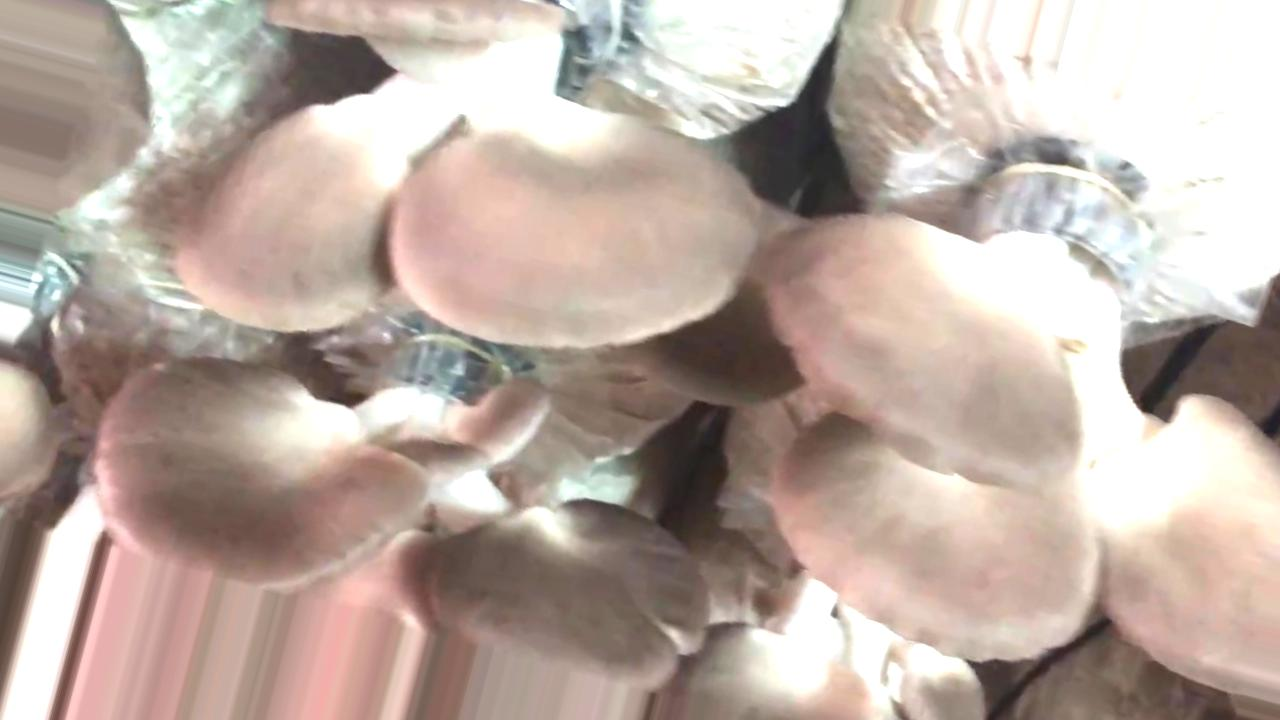nam: (770, 160, 1280, 699), (93, 330, 710, 689), (177, 1, 761, 349)
